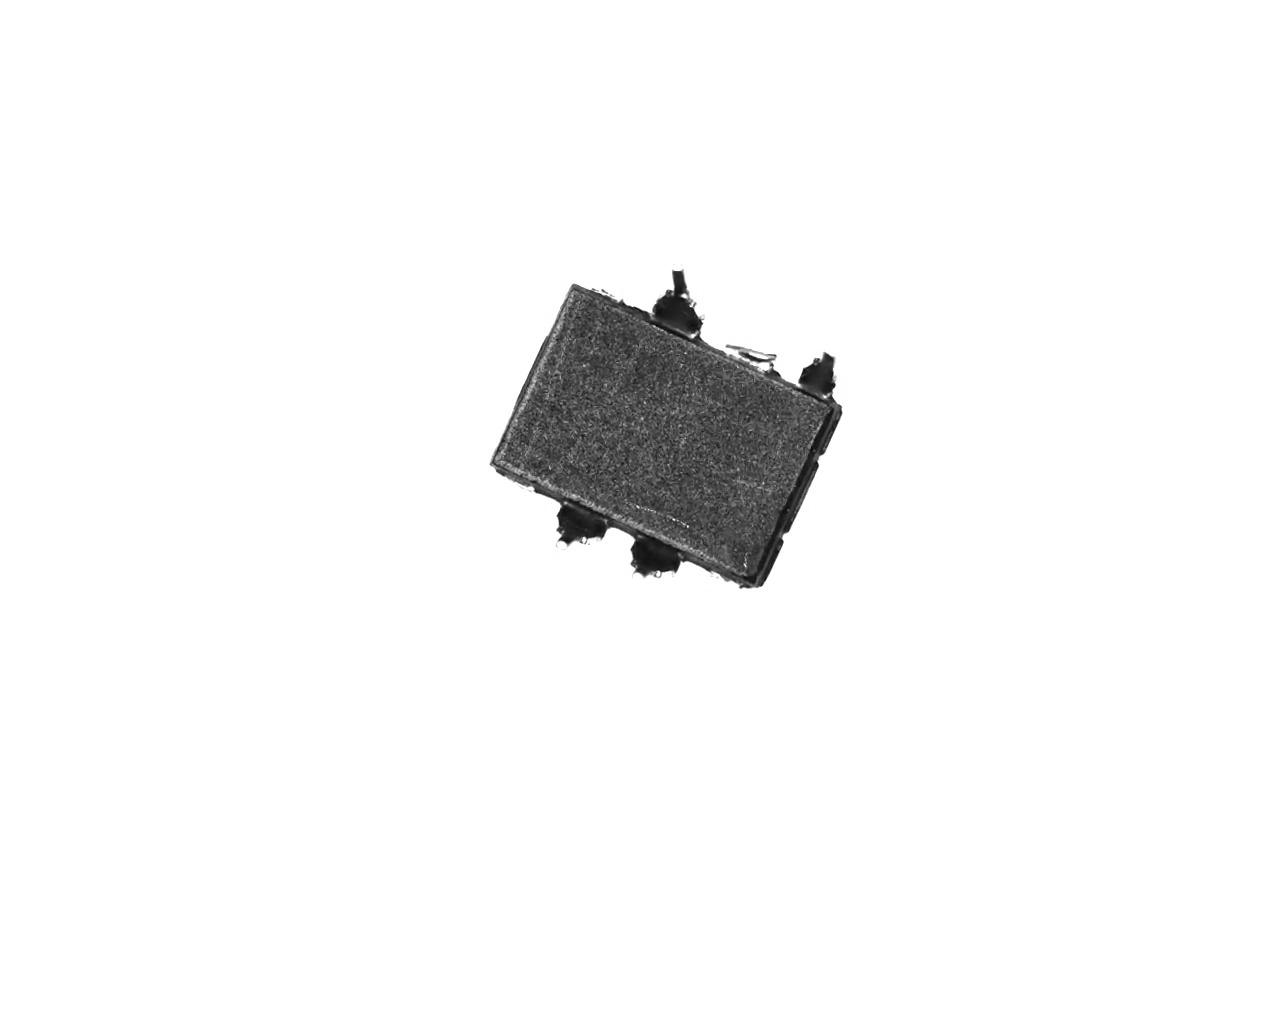brokenLeg: (637, 263, 702, 340), (549, 493, 613, 563), (789, 343, 841, 404), (624, 532, 681, 584)
missingLeg: (575, 274, 641, 318), (694, 557, 750, 599), (490, 464, 553, 502), (725, 343, 781, 378)
